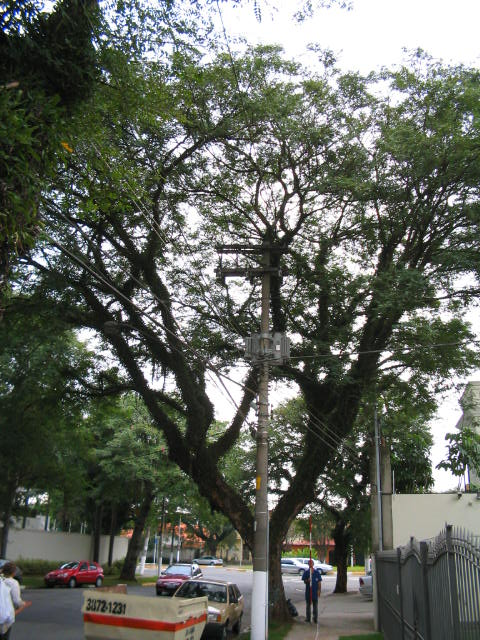crown: (3, 40, 477, 394)
stem: (242, 547, 294, 624)
stick: (303, 515, 315, 622)
tree: (1, 38, 477, 624)
